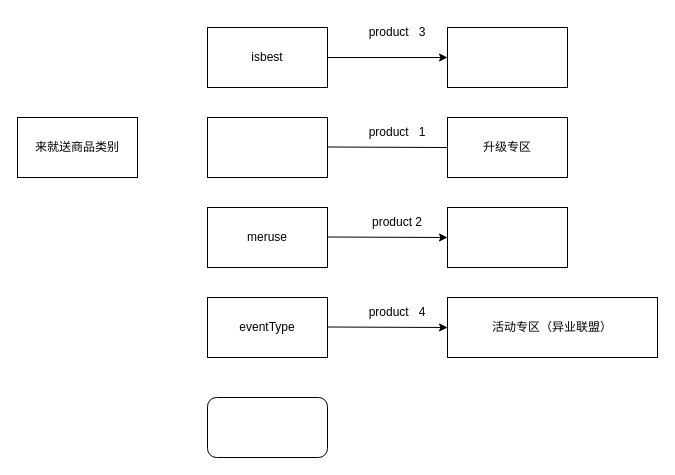
Some shapes in this 675 by 475 pixel diagram are drawn without their labels. Here are the shapes that lost their labels. From the top down, the centre of each, then its label:
point (507, 57): 促销商品
point (267, 147): isnew
point (507, 237): 合作专区
